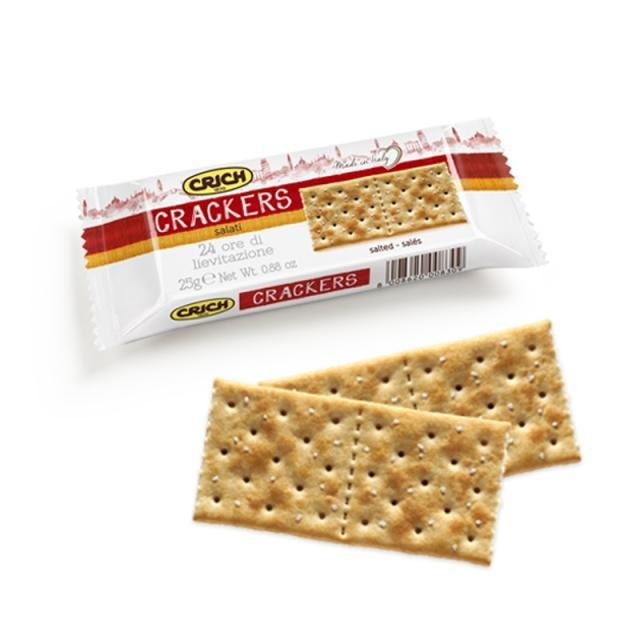Cracker: (237, 327, 589, 489), (199, 379, 499, 569)
